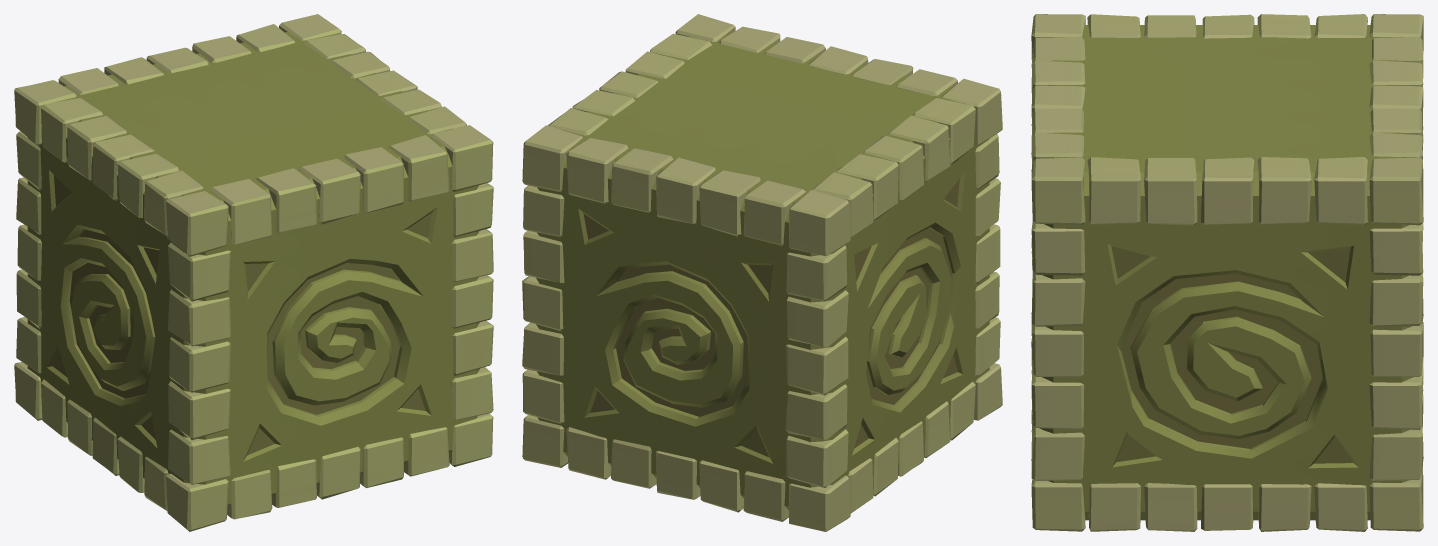
Rendered from InteractiveCube.glb.
3 views of the same model, side by side, from view 1: azimuth 30°, elevation 25°; view 2: azimuth 150°, elevation 25°; view 3: azimuth 270°, elevation 25° (orthographic). The views are drawn at different scales.
Parts seen in each view (by area): view 1: Cube, Cube.002, Cube.005, Cube.003, Cube.011, Cube.004, Cube.012, Cube.007, Cube.009, Cube.010, Cube.001; view 2: Cube, Cube.012, Cube.007, Cube.001, Cube.011, Cube.006, Cube.002, Cube.005, Cube.009, Cube.010, Cube.003; view 3: Cube, Cube.010, Cube.004, Cube.006, Cube.008, Cube.012, Cube.002, Cube.011, Cube.001, Cube.003.
Boxes of the visible parts, x1=… form: Cube: x1=27, y1=31, x2=479, y2=507; Cube.002: x1=166, y1=125, x2=493, y2=256; Cube.005: x1=168, y1=243, x2=230, y2=484; Cube.003: x1=166, y1=413, x2=493, y2=531; Cube.011: x1=41, y1=98, x2=203, y2=235; Cube.004: x1=451, y1=183, x2=493, y2=420; Cube.012: x1=14, y1=14, x2=341, y2=145; Cube.007: x1=16, y1=131, x2=41, y2=373; Cube.009: x1=41, y1=379, x2=168, y2=510; Cube.010: x1=304, y1=34, x2=466, y2=134; Cube.001: x1=14, y1=362, x2=42, y2=420; Cube: x1=536, y1=32, x2=989, y2=510; Cube.012: x1=522, y1=125, x2=850, y2=256; Cube.007: x1=785, y1=245, x2=848, y2=487; Cube.001: x1=522, y1=415, x2=850, y2=531; Cube.011: x1=812, y1=98, x2=975, y2=237; Cube.006: x1=522, y1=185, x2=564, y2=423; Cube.002: x1=675, y1=14, x2=1002, y2=144; Cube.005: x1=975, y1=133, x2=1000, y2=376; Cube.009: x1=848, y1=381, x2=975, y2=513; Cube.010: x1=547, y1=33, x2=711, y2=135; Cube.003: x1=973, y1=363, x2=1002, y2=420; Cube: x1=1039, y1=25, x2=1413, y2=520; Cube.010: x1=1087, y1=157, x2=1367, y2=225; Cube.004: x1=1031, y1=222, x2=1085, y2=480; Cube.006: x1=1369, y1=223, x2=1423, y2=480; Cube.008: x1=1088, y1=483, x2=1367, y2=531; Cube.012: x1=1369, y1=14, x2=1423, y2=225; Cube.002: x1=1031, y1=14, x2=1085, y2=225; Cube.011: x1=1087, y1=14, x2=1367, y2=38; Cube.001: x1=1369, y1=322, x2=1423, y2=531; Cube.003: x1=1031, y1=336, x2=1085, y2=531.
Size of the model in its own units: 2.33 by 2.32 by 2.32.
1 material, 1 textured.
